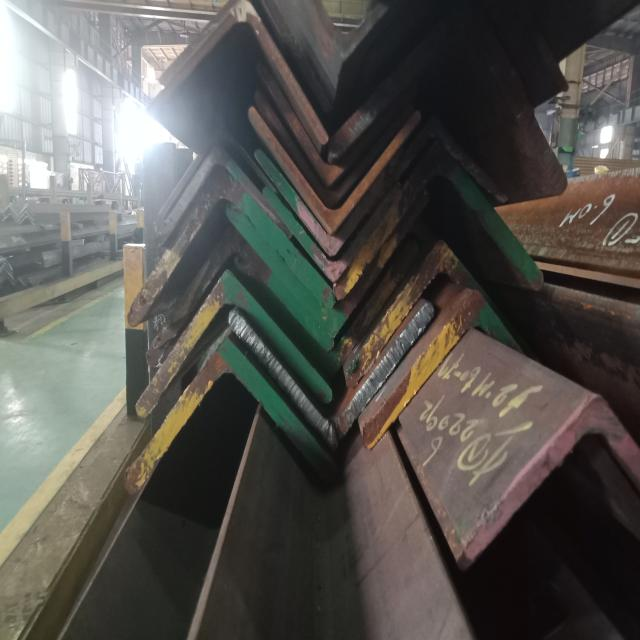metal-angles: (334, 139, 545, 300), (127, 166, 335, 326), (454, 395, 639, 570), (123, 339, 327, 496), (228, 301, 436, 451), (135, 267, 333, 419), (148, 0, 329, 144), (361, 289, 522, 450), (151, 226, 334, 363), (224, 203, 402, 337), (248, 106, 422, 233), (345, 238, 484, 389), (255, 88, 378, 205), (159, 144, 291, 250), (264, 185, 403, 284), (254, 147, 379, 255), (260, 60, 363, 185)
